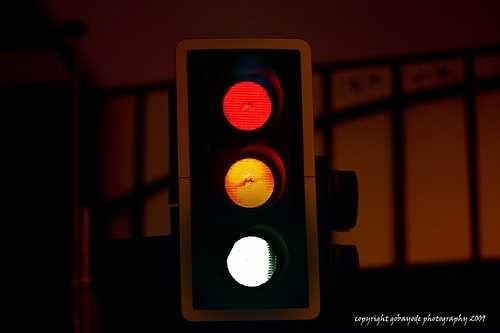green: (188, 224, 310, 307)
red: (188, 49, 303, 138)
